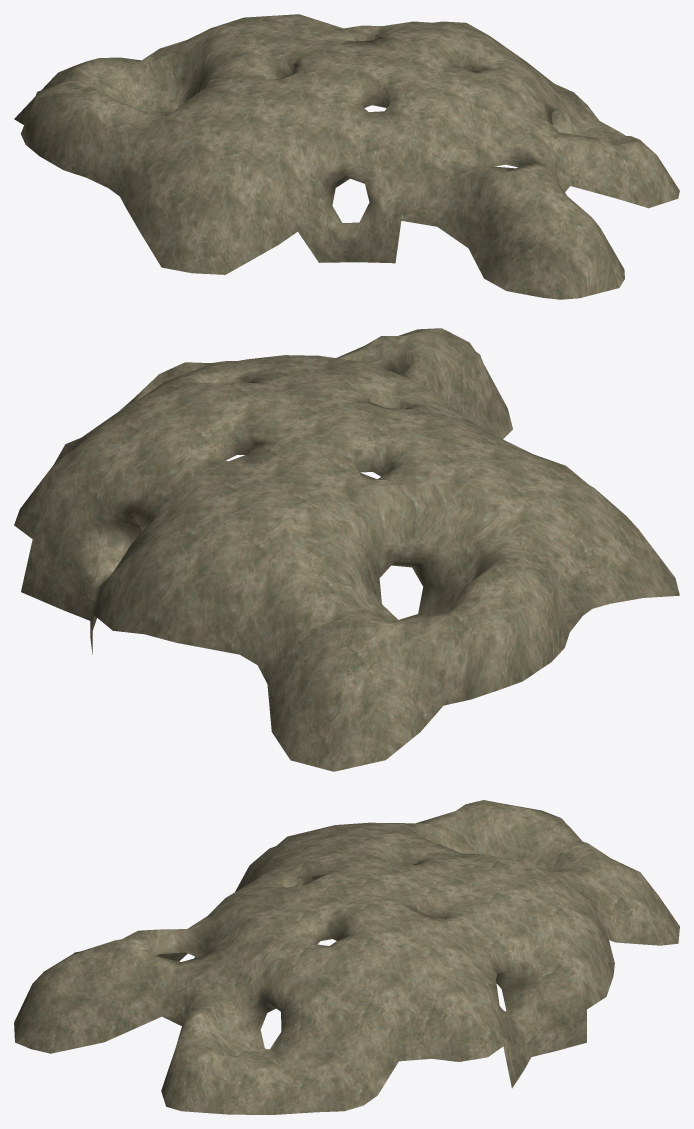
Rendered from EKH_JAIL_PS_JA_OUIB_ROOF_039039.fbx.
3 renders of one model, top to bottom at view 1: azimuth 30°, elevation 25°; view 2: azimuth 150°, elevation 25°; view 3: azimuth 270°, elevation 25°, orthographic. The views are drawn at different scales.
Visible parts, largest first — view 1: EKH_JAIL_PS_JA_OUIB_ROOF_039039; view 2: EKH_JAIL_PS_JA_OUIB_ROOF_039039; view 3: EKH_JAIL_PS_JA_OUIB_ROOF_039039.
Part boxes in pixels (<box>): EKH_JAIL_PS_JA_OUIB_ROOF_039039: <box>14,14,679,299</box>; EKH_JAIL_PS_JA_OUIB_ROOF_039039: <box>14,328,679,771</box>; EKH_JAIL_PS_JA_OUIB_ROOF_039039: <box>14,800,679,1114</box>.
Bounding box in the file's own units: 178591 × 46655 × 210675.
Materials: 1 (1 with a texture image).
